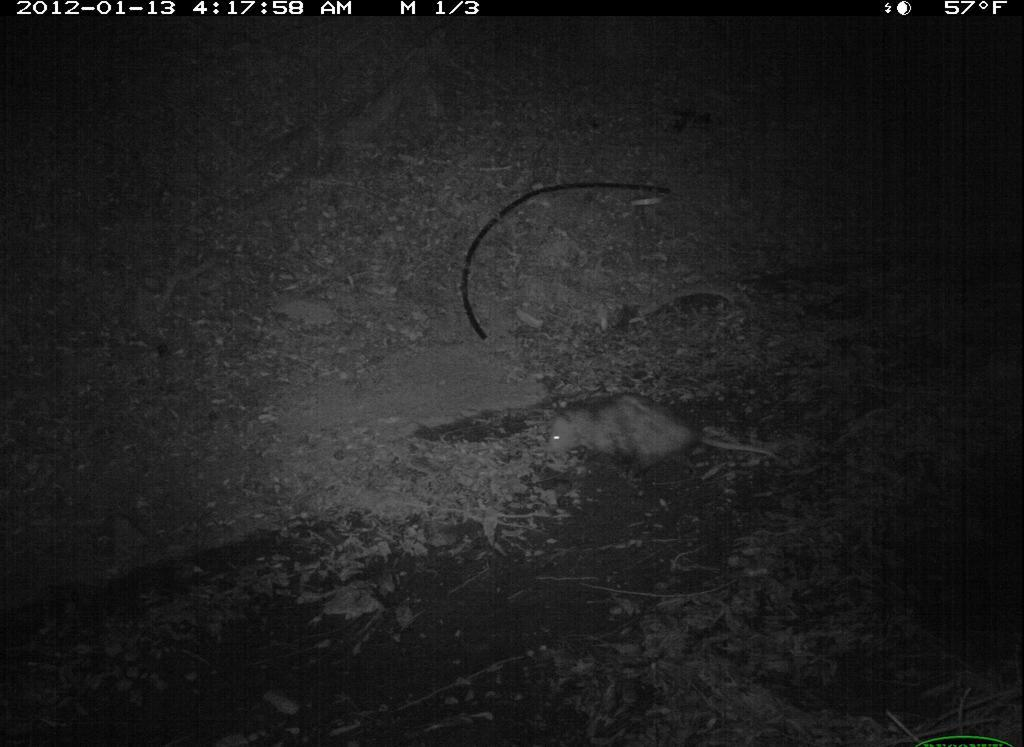opossum: (532, 387, 788, 489)
